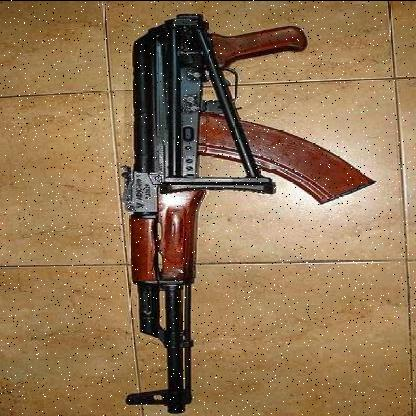rifle: (98, 8, 361, 416)
